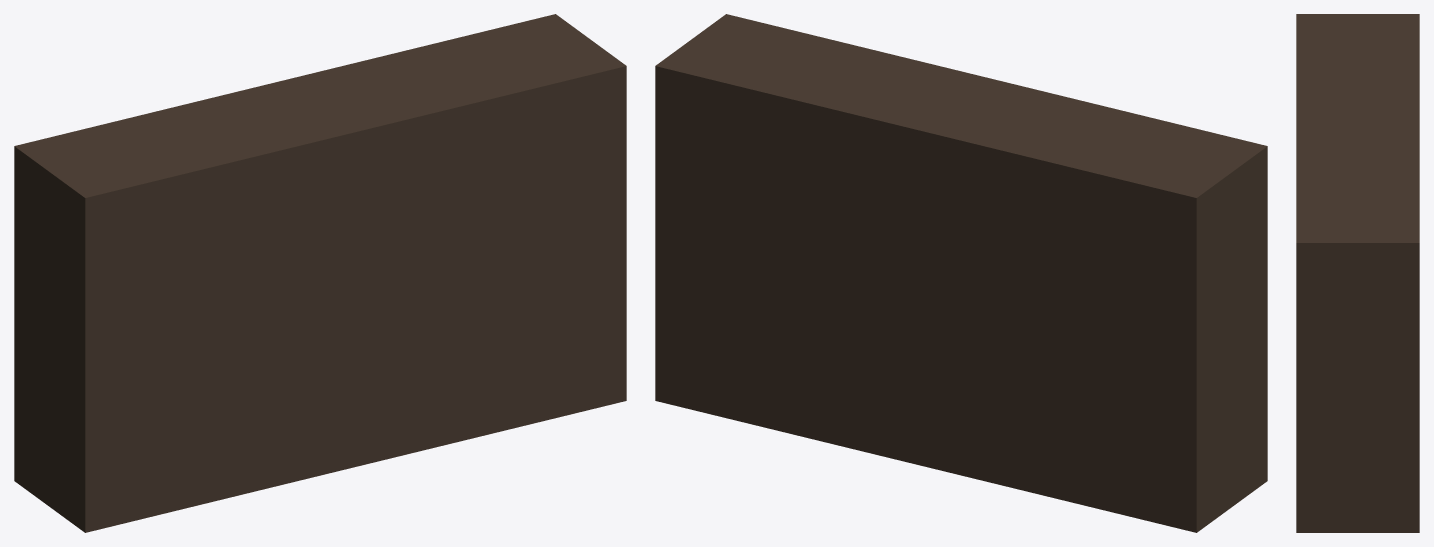
The model's file is beard-short.glb.
The picture shows the model from 3 angles, left to right: view 1: azimuth 30°, elevation 25°; view 2: azimuth 150°, elevation 25°; view 3: azimuth 270°, elevation 25°; orthographic projection. The views are drawn at different scales.
Visible parts, largest first — view 1: BeardJaw; view 2: BeardJaw; view 3: BeardJaw.
Boxes of the visible parts, x1,y1,x2,y2 form: BeardJaw: [14, 14, 626, 532]; BeardJaw: [655, 14, 1267, 532]; BeardJaw: [1296, 14, 1419, 532].
Bounding box in the file's own units: 0.11 × 0.065 × 0.025.
